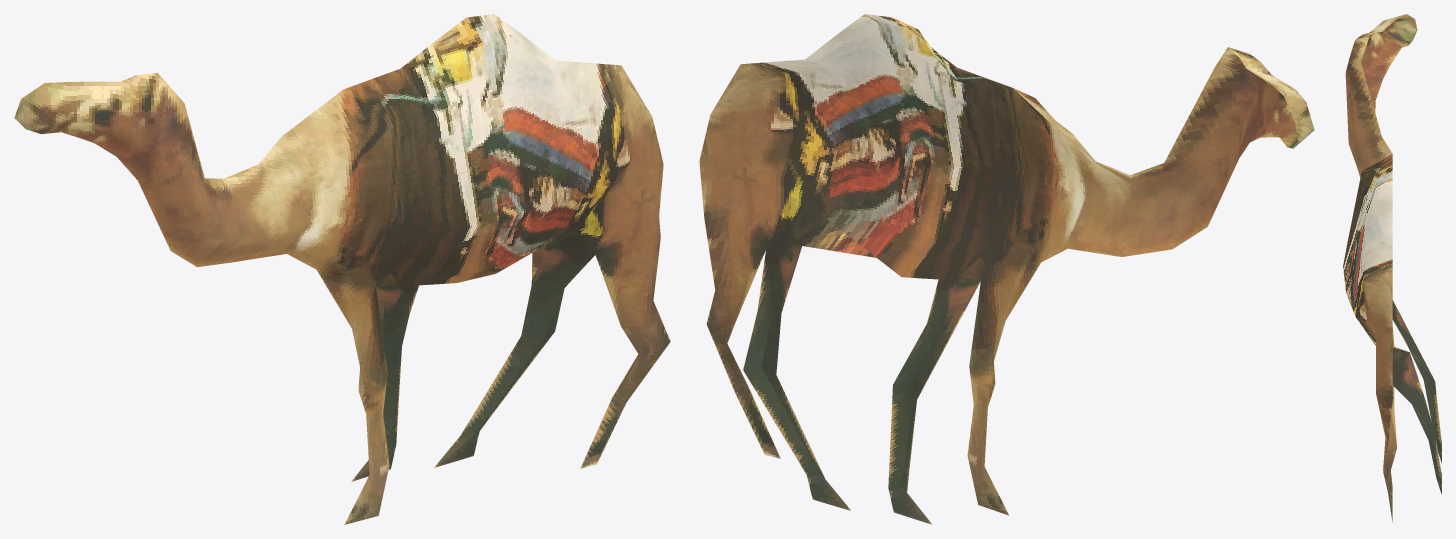
The model's file is stage-ruin-p4-1.glb.
3 views of the same model, side by side, from view 1: azimuth 30°, elevation 25°; view 2: azimuth 150°, elevation 25°; view 3: azimuth 270°, elevation 25° (orthographic). The views are drawn at different scales.
Bounding box in the file's own units: 3.17 × 2.47 × 0.6474.
1 material, 1 textured.
